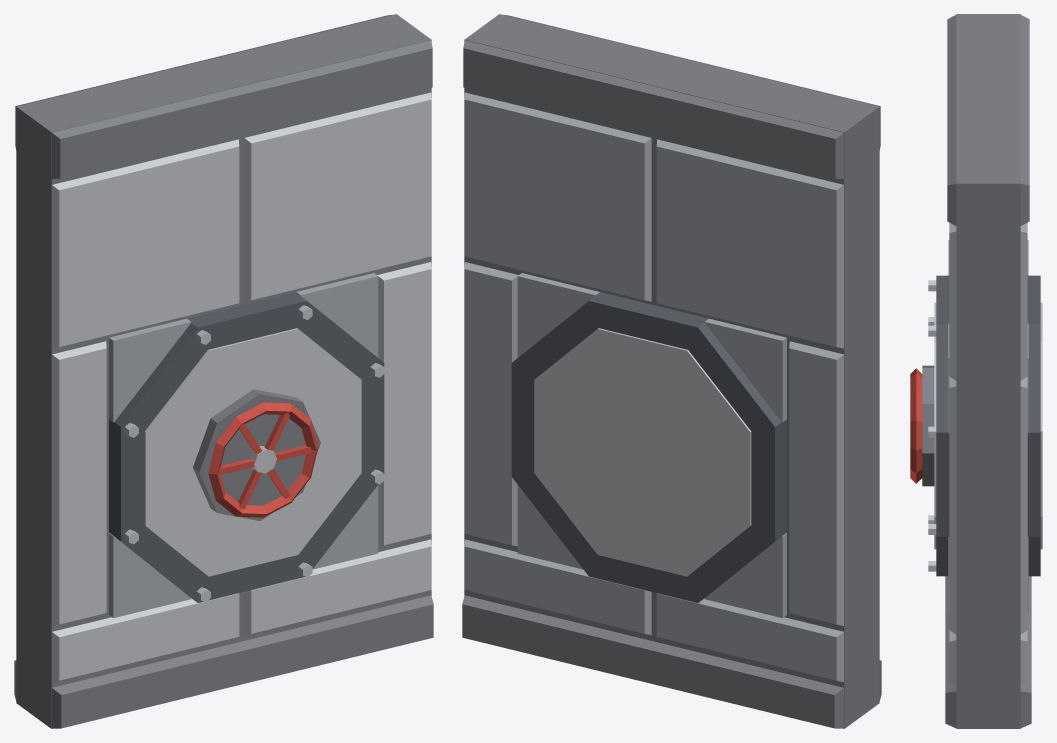
The model's file is SM_Wall_Hatch.glb.
3 renders of one model, left to right at view 1: azimuth 30°, elevation 25°; view 2: azimuth 150°, elevation 25°; view 3: azimuth 270°, elevation 25°, orthographic. The views are drawn at different scales.
Visible parts, largest first — view 1: SM_Wall_Hatch; view 2: SM_Wall_Hatch; view 3: SM_Wall_Hatch.
Boxes of the visible parts, bbox=[...] form: SM_Wall_Hatch: bbox=[14, 14, 433, 728]; SM_Wall_Hatch: bbox=[462, 14, 881, 728]; SM_Wall_Hatch: bbox=[910, 14, 1042, 728].
Size of the model in its own units: 2 by 3 by 0.66.
